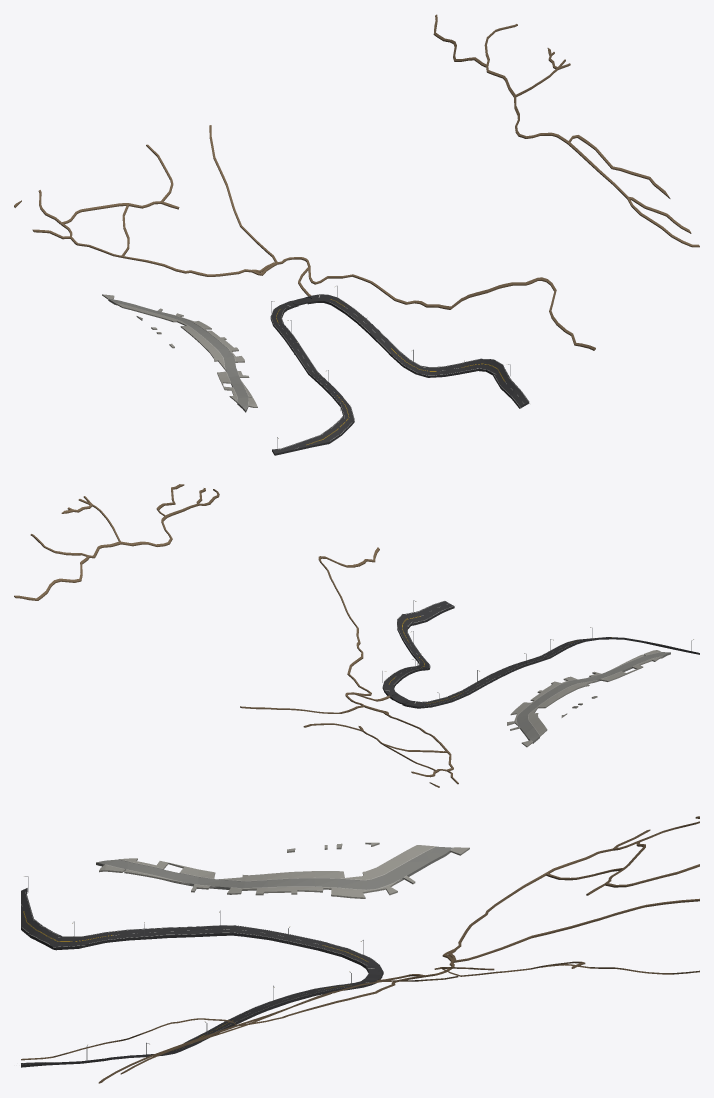
3 renders of one model, top to bottom at view 1: azimuth 30°, elevation 25°; view 2: azimuth 150°, elevation 25°; view 3: azimuth 270°, elevation 25°, orthographic. The views are drawn at different scales.
Size of the model in its own units: 293 by 112 by 295.
